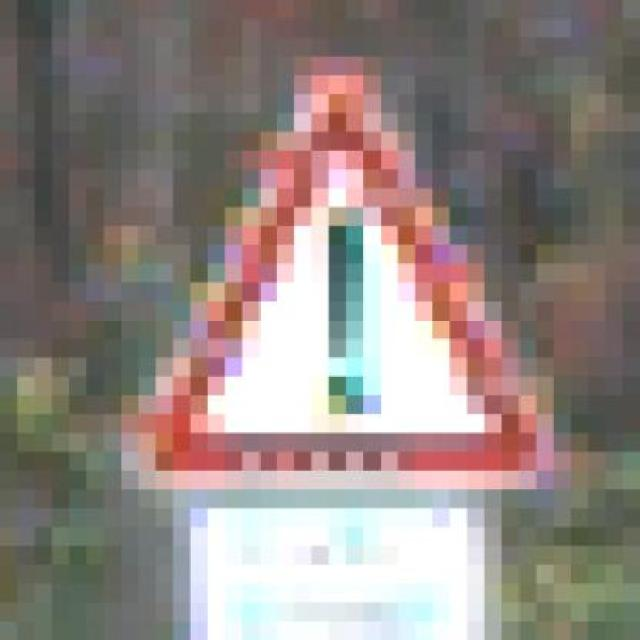Attention Please-: (104, 38, 605, 508)
